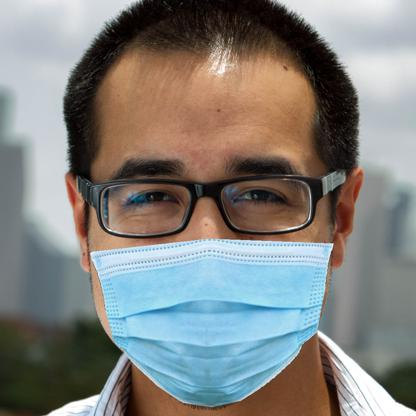mask: (83, 240, 334, 409)
